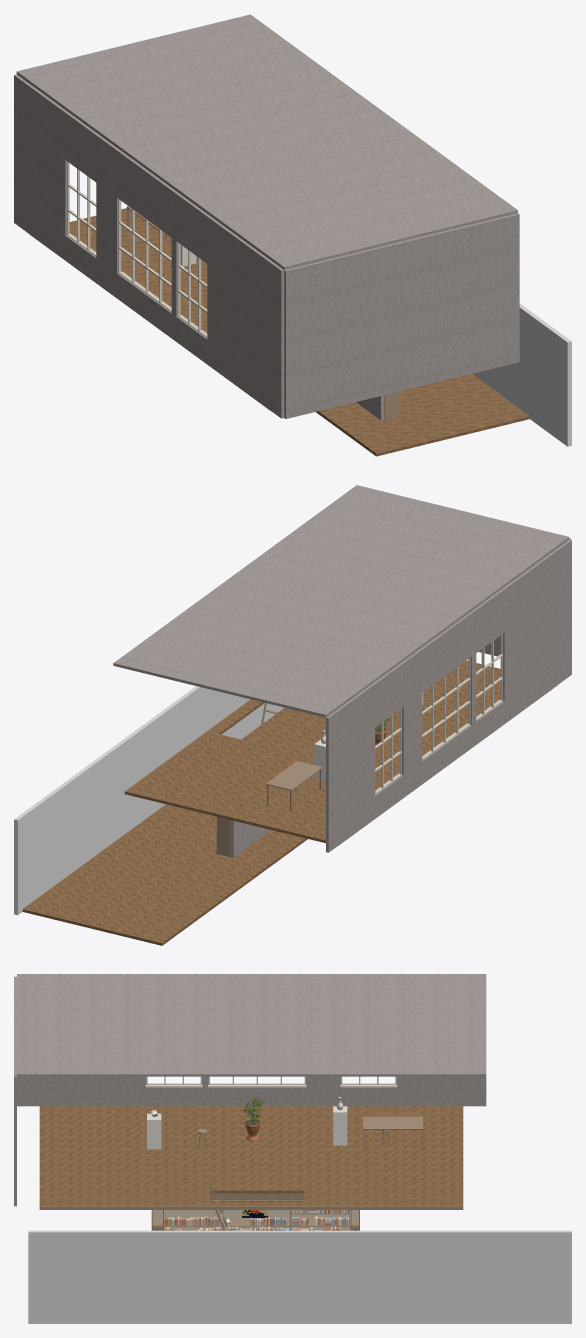
File: archive.glb
3 views of the same model, one above another, from view 1: azimuth 30°, elevation 25°; view 2: azimuth 150°, elevation 25°; view 3: azimuth 270°, elevation 25° (orthographic). The views are drawn at different scales.
Parts seen in each view (by area): view 1: Archive_shell, Occluder_front, Archive_decor; view 2: Archive_shell, Occluder_front, Archive_decor; view 3: Archive_shell, Occluder_front, Archive_decor, Archive_books.
Boxes of the visible parts, bbox=[...] form: Archive_shell: bbox=[14, 14, 529, 456]; Occluder_front: bbox=[472, 303, 571, 446]; Archive_decor: bbox=[67, 161, 207, 337]; Archive_shell: bbox=[22, 485, 571, 945]; Occluder_front: bbox=[14, 686, 284, 915]; Archive_decor: bbox=[266, 634, 502, 811]; Archive_shell: bbox=[14, 974, 486, 1230]; Occluder_front: bbox=[28, 1230, 571, 1323]; Archive_decor: bbox=[145, 1076, 423, 1223]; Archive_books: bbox=[164, 1210, 349, 1230].
Size of the model in its own units: 10.51 by 8.63 by 19.5.
23 materials, 9 textured.
